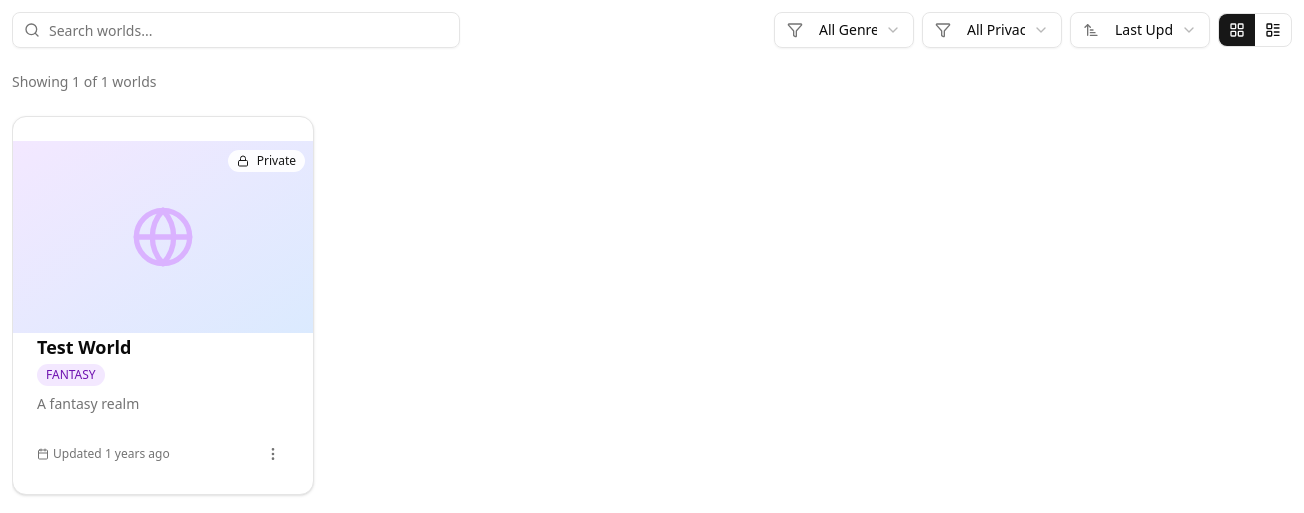
Scenario: WorldsList › List View › switches to list view when button clicked
Click the 2nd button: (1273, 30) [1255, 14, 1291, 46]
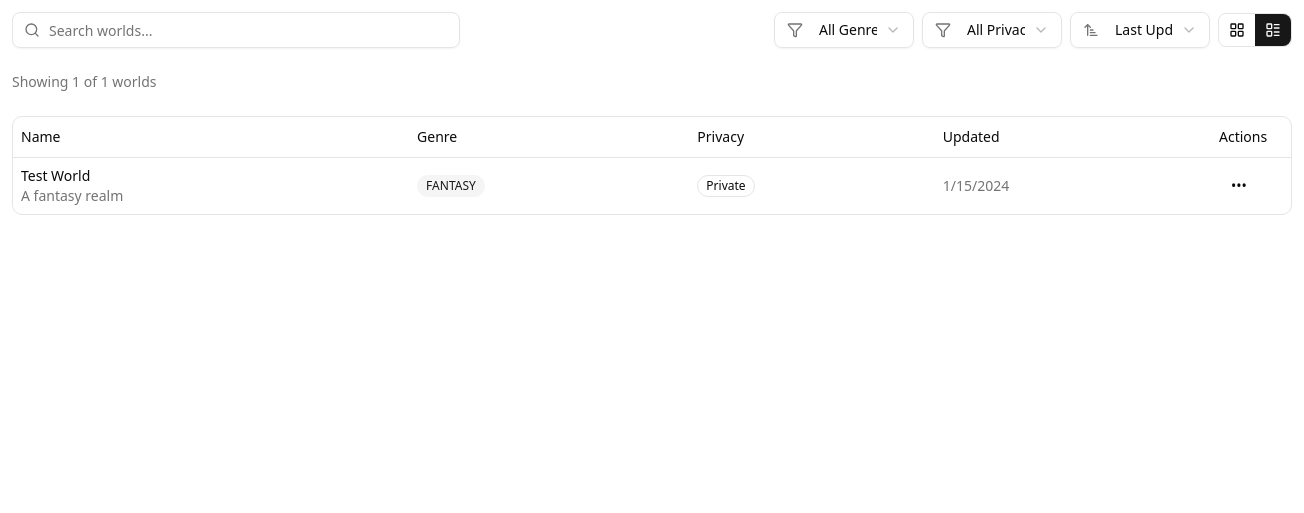
Check: the column heading "Name" is shown, box [13, 117, 409, 157]
Check: the column heading "Genre" is shown, box [409, 117, 689, 157]
Check: the column heading "Privacy" is shown, box [689, 117, 935, 157]
